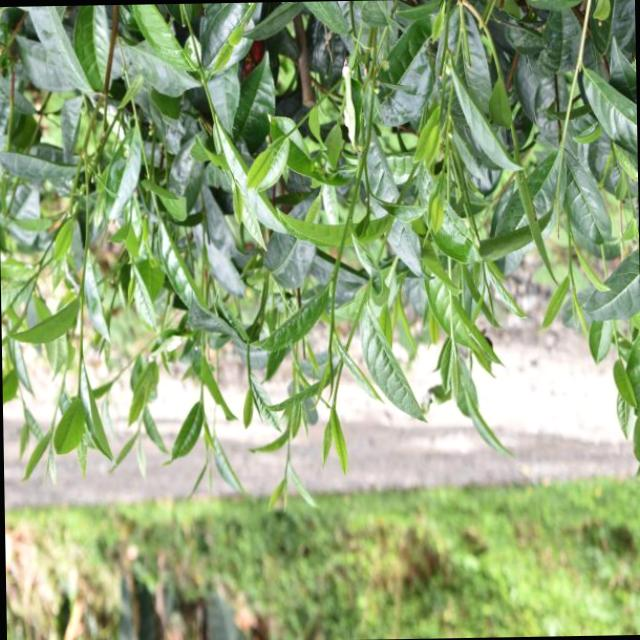Stem: (567, 264, 571, 271), (78, 349, 82, 355), (198, 394, 202, 400), (49, 424, 53, 429), (247, 377, 250, 383), (331, 399, 334, 405), (286, 455, 289, 460)
